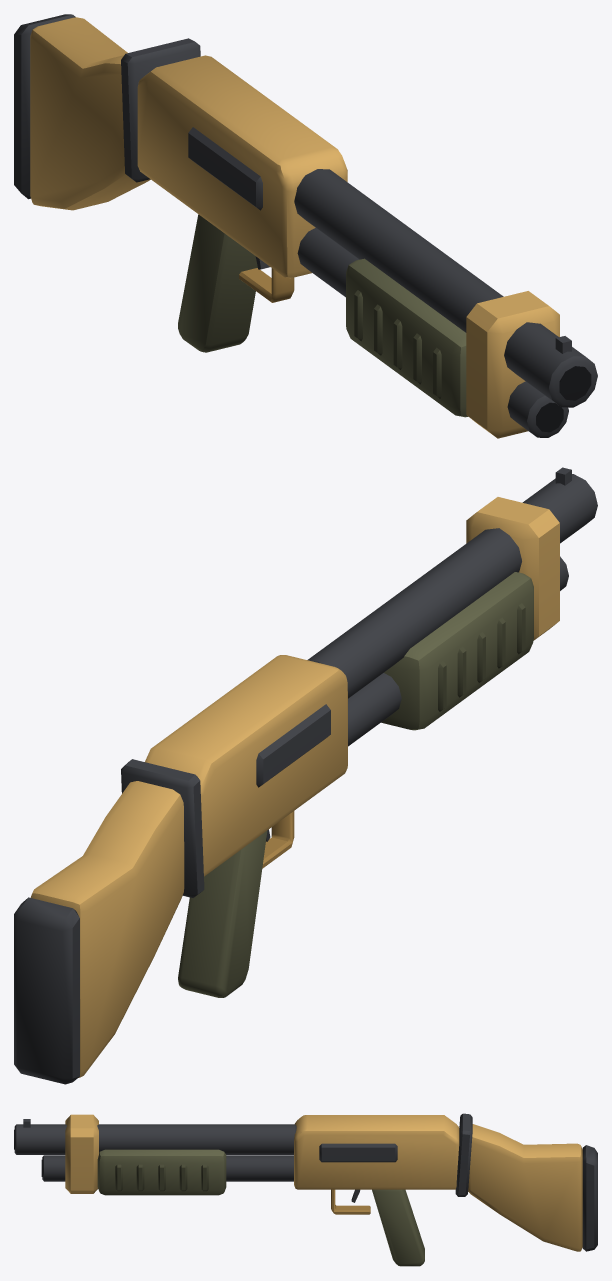
The model's file is shotgun.glb.
3 renders of one model, top to bottom at view 1: azimuth 30°, elevation 25°; view 2: azimuth 150°, elevation 25°; view 3: azimuth 270°, elevation 25°, orthographic. The views are drawn at different scales.
Parts seen in each view (by area): view 1: shotgun_body, shotgun_barrels, shotgun_pump; view 2: shotgun_body, shotgun_barrels, shotgun_pump; view 3: shotgun_body, shotgun_barrels, shotgun_pump.
Boxes of the visible parts, x1=… form: shotgun_body: x1=30, y1=17, x2=559, y2=438; shotgun_barrels: x1=14, y1=14, x2=597, y2=437; shotgun_pump: x1=346, y1=258, x2=468, y2=417; shotgun_body: x1=30, y1=497, x2=559, y2=1077; shotgun_barrels: x1=14, y1=467, x2=597, y2=1084; shotgun_pump: x1=381, y1=572, x2=533, y2=730; shotgun_body: x1=65, y1=1114, x2=582, y2=1266; shotgun_barrels: x1=14, y1=1113, x2=597, y2=1251; shotgun_pump: x1=97, y1=1149, x2=226, y2=1195.
Bounding box in the file's own units: 0.0912 × 0.2544 × 0.951.
